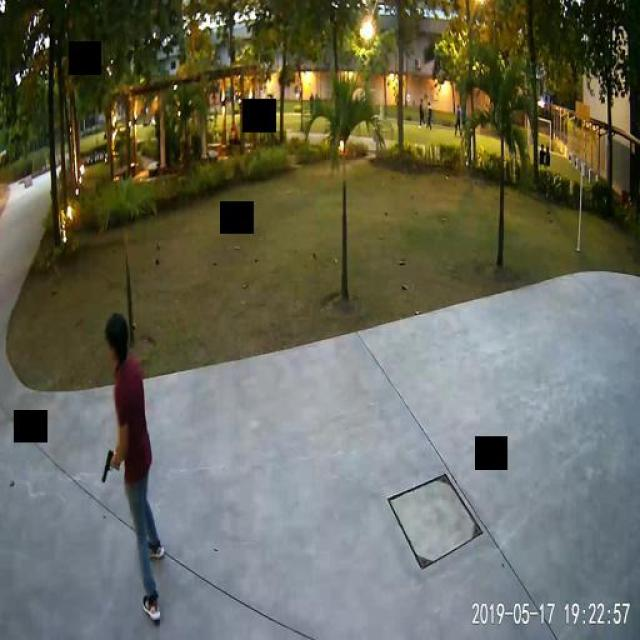gun: (100, 449, 116, 480)
